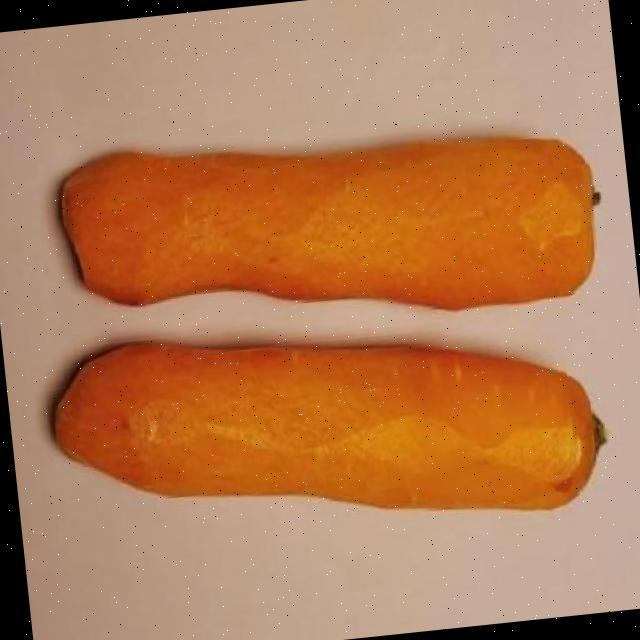carrot: (60, 139, 593, 310), (54, 343, 602, 509)
